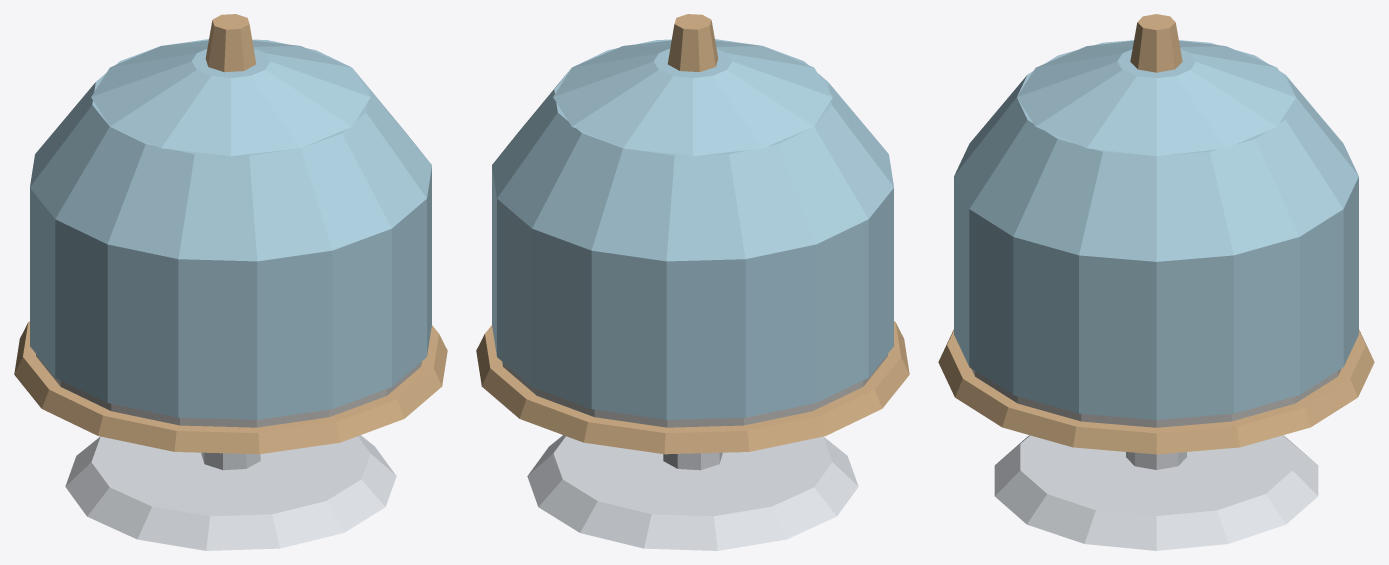
File: street-food-market-and-food-trucks-cake-stand-with-dom-4104ec88__34321.glb
3 renders of one model, left to right at view 1: azimuth 30°, elevation 25°; view 2: azimuth 150°, elevation 25°; view 3: azimuth 270°, elevation 25°, orthographic.
Parts seen in each view (by area): view 1: dome/glass, cake-stand-with-dome-steel, cake-stand-with-dome-timber, cake-stand-with-dome-concrete, dome/timber; view 2: dome/glass, cake-stand-with-dome-steel, cake-stand-with-dome-timber, cake-stand-with-dome-concrete, dome/timber; view 3: dome/glass, cake-stand-with-dome-steel, cake-stand-with-dome-timber, cake-stand-with-dome-concrete, dome/timber.
Part boxes in pixels (x1,y1,x2,y2): dome/glass: [30, 39, 431, 419]; cake-stand-with-dome-steel: [65, 435, 396, 550]; cake-stand-with-dome-timber: [14, 321, 447, 454]; cake-stand-with-dome-concrete: [36, 354, 421, 427]; dome/timber: [205, 14, 256, 72]; dome/glass: [492, 39, 893, 419]; cake-stand-with-dome-steel: [527, 435, 858, 550]; cake-stand-with-dome-timber: [476, 321, 909, 454]; cake-stand-with-dome-concrete: [502, 354, 887, 427]; dome/timber: [667, 14, 718, 72]; dome/glass: [954, 40, 1358, 419]; cake-stand-with-dome-steel: [994, 435, 1318, 550]; cake-stand-with-dome-timber: [938, 329, 1374, 454]; cake-stand-with-dome-concrete: [971, 369, 1341, 427]; dome/timber: [1130, 14, 1182, 72].
Size of the model in its own units: 0.5 by 0.58 by 0.5.
Materials: 6 (1 with a texture image).
